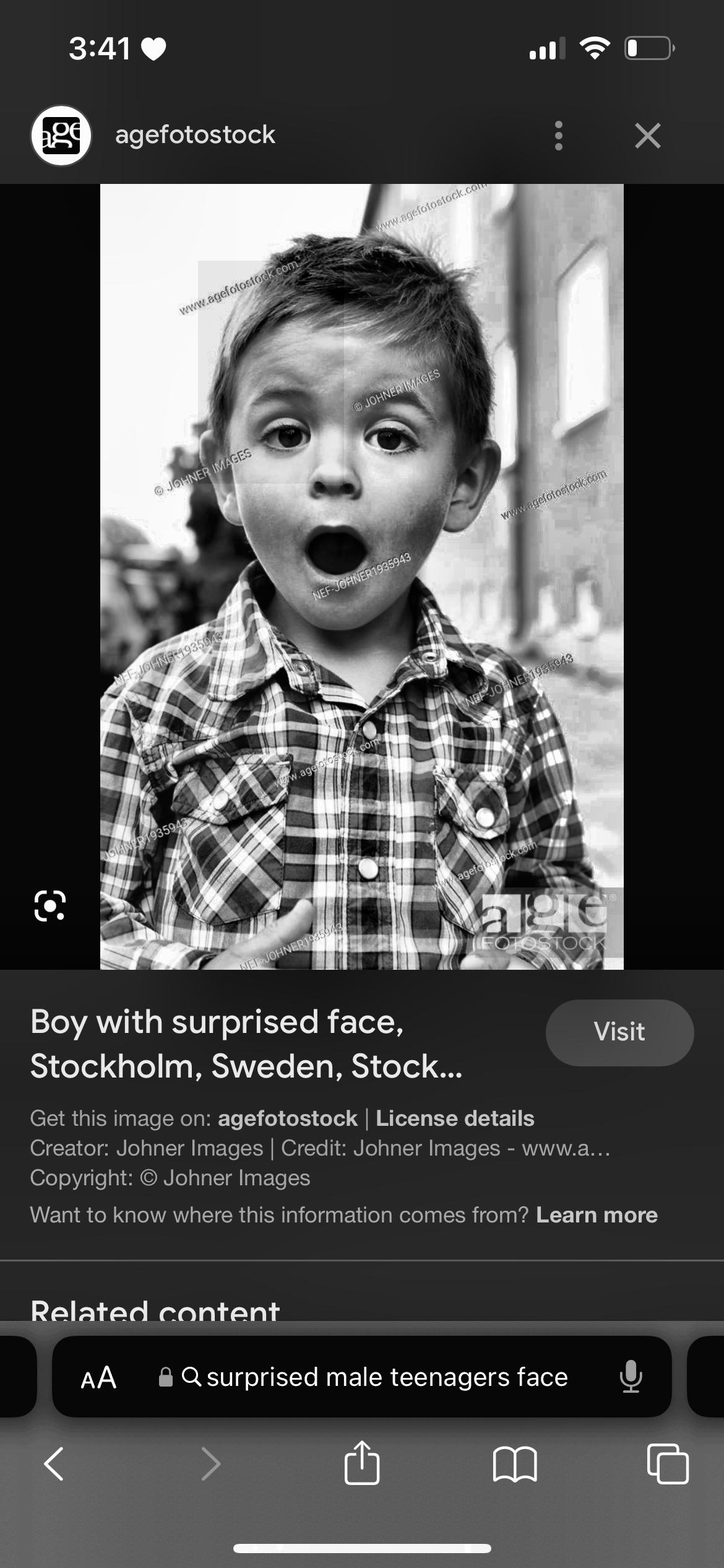surprised: (245, 322, 426, 598)
